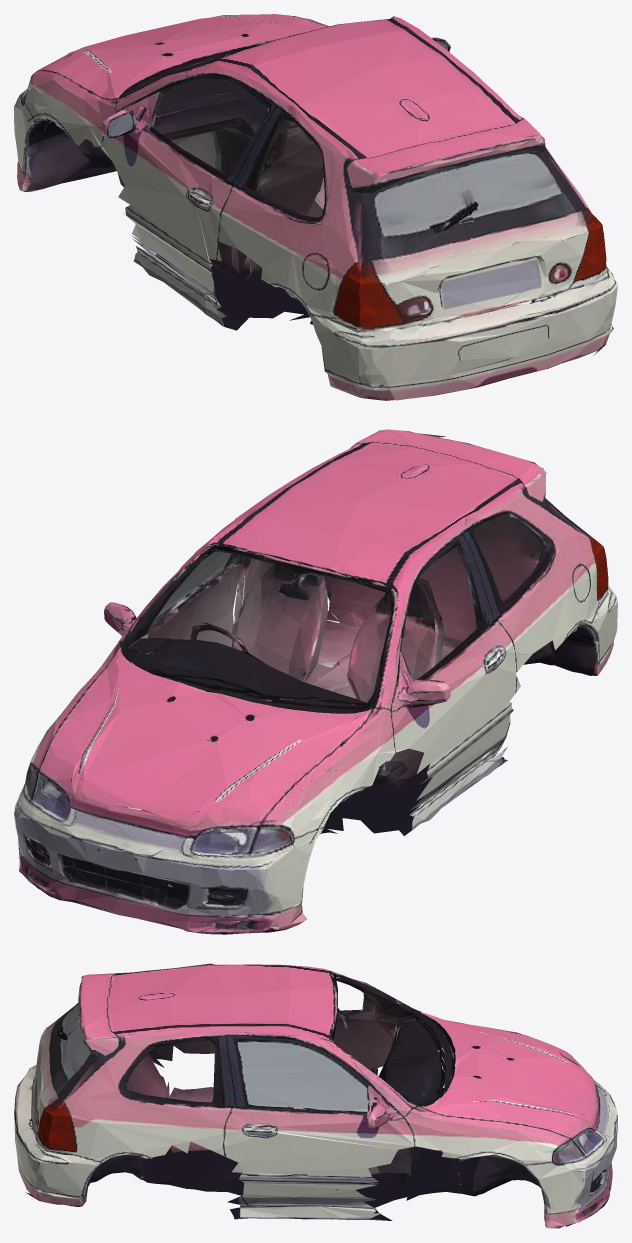
File: car_body.glb
The picture shows the model from 3 angles, top to bottom: view 1: azimuth 30°, elevation 25°; view 2: azimuth 150°, elevation 25°; view 3: azimuth 270°, elevation 25°; orthographic projection. The views are drawn at different scales.
Visible parts, largest first — view 1: geometry_0; view 2: geometry_0; view 3: geometry_0.
Boxes of the visible parts, box(x1,y1,x2,y2) form: geometry_0: box(14, 14, 617, 400); geometry_0: box(14, 429, 617, 934); geometry_0: box(14, 963, 617, 1228).
Bounding box in the file's own units: 0.5109 × 0.3391 × 0.9996.
Materials: 1 (1 with a texture image).
